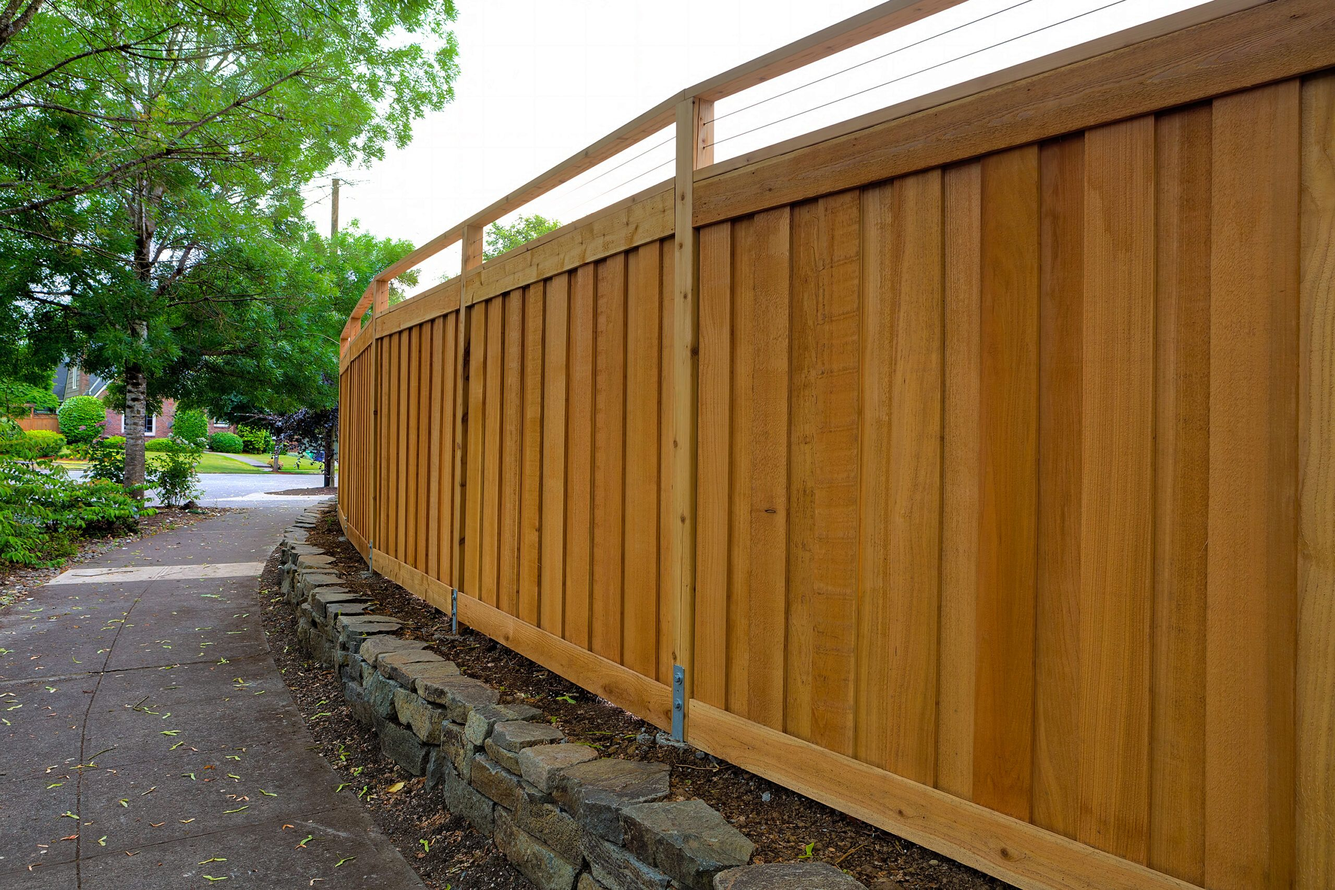Fence: (361, 115, 1335, 850)
Tree: (18, 23, 345, 520)
